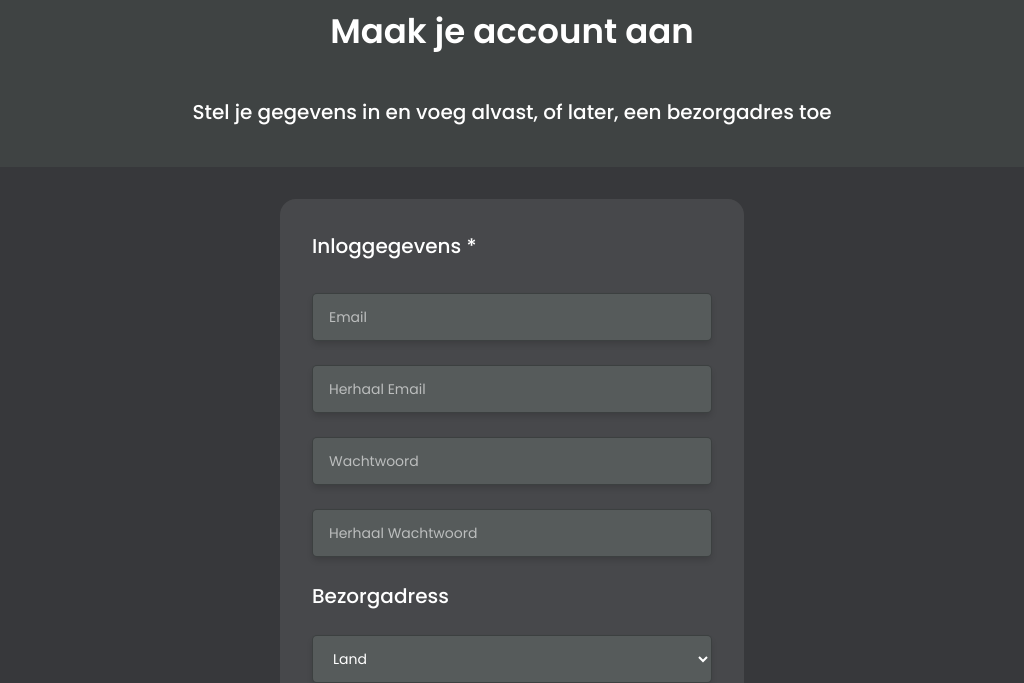
it: RegisterPage › toont fout als wachtwoord korter dan 8 karakters is
Type "kort" into the password field with placeholder "Wachtwoord" at point(512, 461), box [312, 437, 712, 485]
(page scrolled)
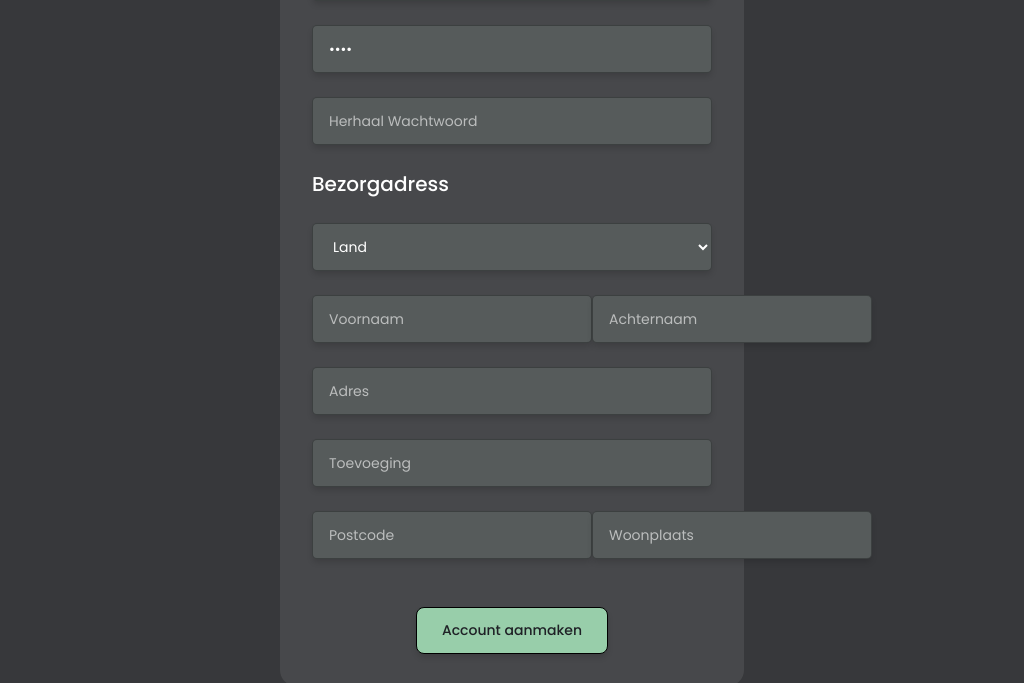
Click the button "Account aanmaken" at point(512, 630), box [416, 607, 608, 654]
(page scrolled)
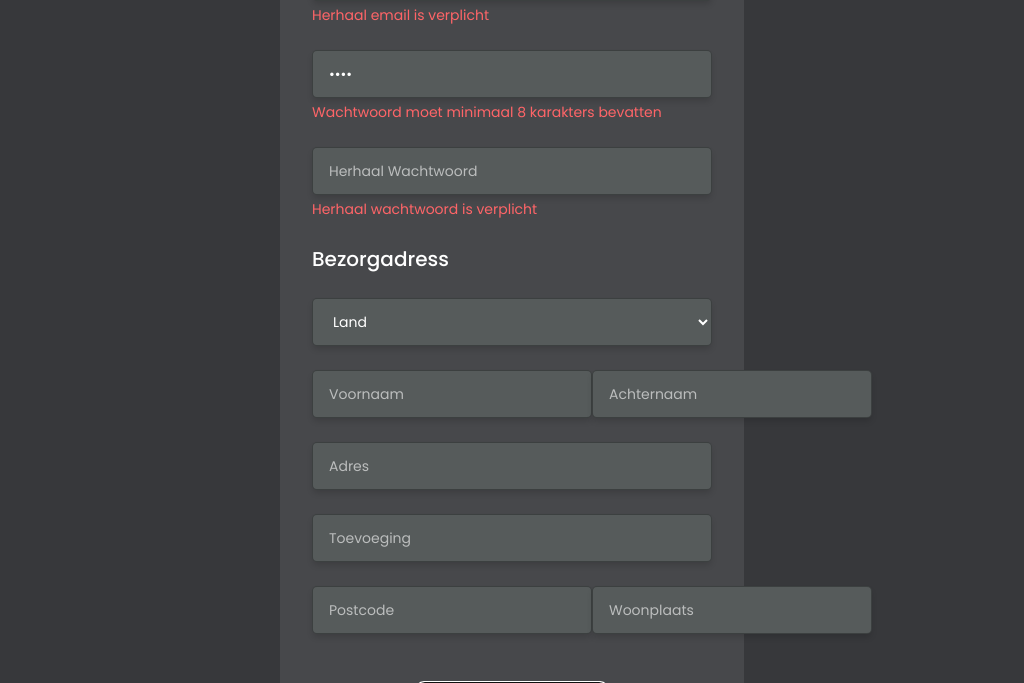
Expected: the text "Wachtwoord moet minimaal 8 karakters bevatten" is shown, [312, 102, 712, 123]
